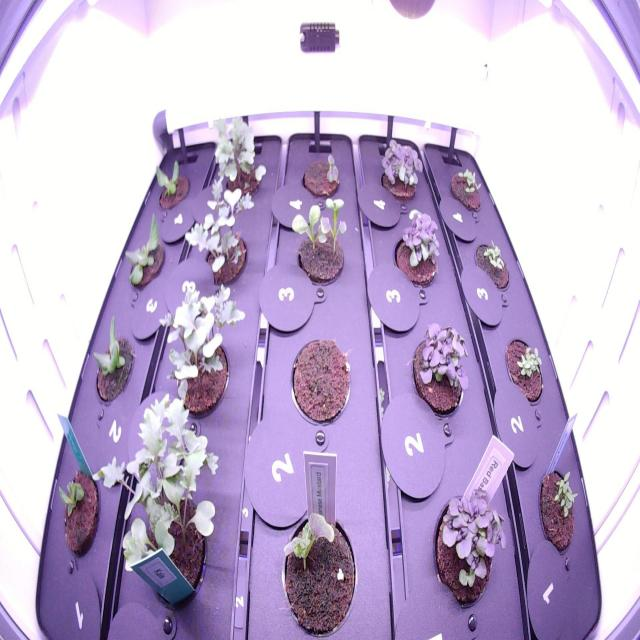germination: (274, 500, 363, 640), (287, 187, 351, 292), (530, 455, 582, 563), (500, 330, 550, 409), (291, 146, 348, 208), (468, 230, 515, 299), (445, 156, 487, 222)
pod: (282, 330, 355, 434)
young: (50, 458, 104, 570), (84, 306, 139, 414), (117, 204, 170, 303), (144, 154, 193, 225)
